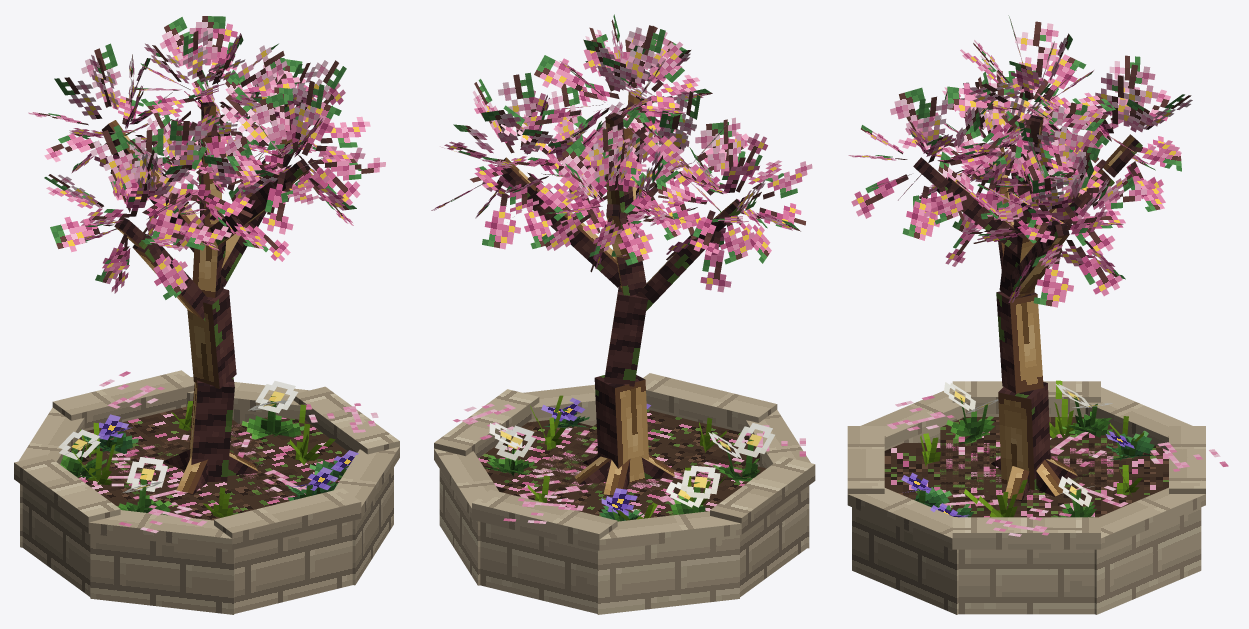
The model's file is blossom_tree_planter.glb.
The picture shows the model from 3 angles, left to right: view 1: azimuth 30°, elevation 25°; view 2: azimuth 150°, elevation 25°; view 3: azimuth 270°, elevation 25°; orthographic projection.
Parts seen in each view (by area): view 1: bed, blossom, bed_soil_b, bed_soil_a, trunk_1, trunk_2, trunk_3, branch_1, branch_4, branch_2, daisy_head_2, root_2 (+3 smaller); view 2: bed, blossom, bed_soil_b, bed_soil_a, trunk_1, trunk_2, branch_2, branch_1, trunk_3, daisy_head_5, daisy_head_1, daisy_head_3 (+3 smaller); view 3: bed, blossom, bed_soil_a, bed_soil_b, trunk_1, trunk_2, branch_4, branch_2, trunk_3, branch_3_twig, root_4, root_1 (+1 smaller).
Boxes of the visible parts, x1,y1,x2,y2 form: bed: (14, 370, 399, 614); blossom: (28, 16, 385, 299); bed_soil_b: (70, 407, 305, 520); bed_soil_a: (78, 417, 347, 506); trunk_1: (189, 377, 234, 481); trunk_2: (187, 289, 236, 388); trunk_3: (192, 224, 225, 297); branch_1: (132, 233, 208, 321); branch_4: (210, 177, 290, 245); branch_2: (221, 163, 275, 286); daisy_head_2: (126, 457, 167, 491); root_2: (176, 457, 208, 494); bed: (434, 373, 815, 614); blossom: (431, 14, 812, 292); bed_soil_b: (503, 409, 759, 519); bed_soil_a: (478, 420, 766, 515); trunk_1: (594, 375, 648, 483); trunk_2: (604, 286, 647, 386); branch_2: (528, 188, 620, 287); branch_1: (636, 231, 720, 310); trunk_3: (613, 237, 646, 295); daisy_head_5: (681, 465, 720, 498); daisy_head_1: (733, 423, 774, 457); daisy_head_3: (495, 425, 535, 460); bed: (847, 381, 1205, 614); blossom: (848, 15, 1192, 307); bed_soil_a: (940, 417, 1113, 517); bed_soil_b: (884, 443, 1168, 510); trunk_1: (998, 382, 1050, 490); trunk_2: (996, 291, 1043, 393); branch_4: (936, 177, 1018, 253); branch_2: (1010, 237, 1062, 294); trunk_3: (999, 225, 1039, 298); branch_3_twig: (1103, 134, 1142, 177); root_4: (1036, 460, 1066, 496); root_1: (1005, 466, 1029, 500).
Bounding box in the file's own units: 2.01 × 2.89 × 1.98.
1 material, 1 textured.
